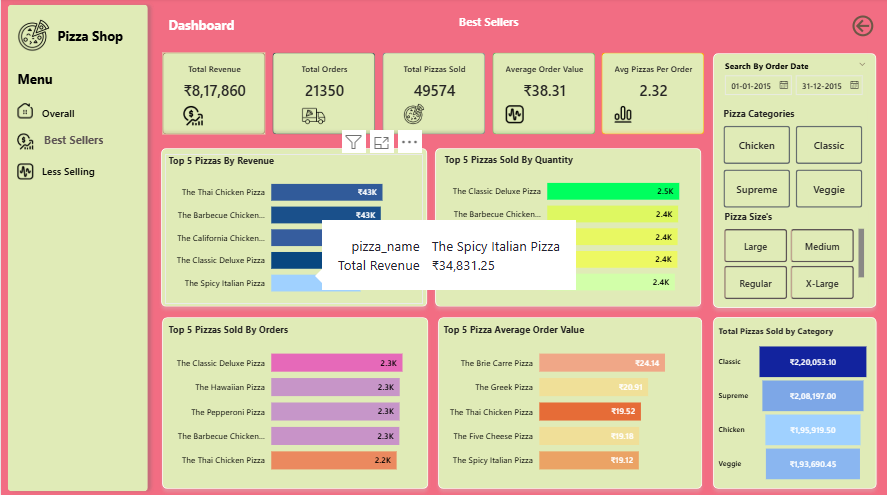

The dashboard page shown, as its layout file describes it:
{"tool":"powerbi","page":{"name":"Best Sellers","canvas":[1280,720],"ordinal":1},"visuals":[{"type":"shape","box":[0,0,221,720],"z":0},{"type":"textbox","box":[76,37,122,37],"z":1000},{"type":"image","box":[19,23,57,60],"z":2000},{"type":"textbox","box":[236.2,21.2,150,37.5],"z":3000},{"type":"cardVisual","fields":{"Data":["pizza_sales.Total Revenue"]},"box":[227.4,73.6,158.2,128.4],"z":4000,"group":"g1"},{"type":"shape","box":[223,450,401,265],"z":4000},{"type":"cardVisual","fields":{"Data":["pizza_sales.Total Orders"]},"box":[385.6,73.6,158.2,128.4],"z":5000,"group":"g1"},{"type":"shape","box":[620,450,398,265],"z":5000},{"type":"group","id":"g1","title":"Group 1","box":[227.4,73.6,791.1,128.4],"z":6000},{"type":"cardVisual","fields":{"Data":["pizza_sales.Avg Order Value"]},"box":[702,73.6,158.2,128.4],"z":6000,"group":"g1"},{"type":"shape","box":[1016.4,70.9,252.7,384.5],"z":7000},{"type":"cardVisual","fields":{"Data":["pizza_sales.Total Pizzas Sold"]},"box":[543.6,73.6,158.2,128],"z":7000,"group":"g1"},{"type":"cardVisual","fields":{"Data":["pizza_sales.Avg Pizza Per Order"]},"box":[860.2,73.6,158.2,128.4],"z":8000,"group":"g1"},{"type":"slicer","fields":{"Values":["pizza_sales.order_date"]},"box":[1029.2,83.3,228.3,100.8],"z":8000},{"type":"textbox","box":[19,100,150,38],"z":9000},{"type":"image","box":[19.2,146,32.4,33.6],"z":10000},{"type":"pageNavigator","box":[59.3,144,146,116],"z":11000},{"type":"shape","box":[1016,450,253,265],"z":12000},{"type":"advancedSlicerVisual","title":"Pizza Categories","fields":{"Values":["pizza_sales.pizza_category"]},"box":[1035.8,156.7,211.7,150],"z":13000},{"type":"advancedSlicerVisual","title":"Pizza Size''s","fields":{"Values":["pizza_sales.pizza_size"]},"box":[1037.5,305.8,211.7,134.2],"z":14000},{"type":"image","box":[14,190.7,40,32.7],"z":15000},{"type":"image","box":[11.3,232.7,47.3,32.7],"z":16000},{"type":"actionButton","box":[1221.2,20,47.5,40],"z":17000},{"type":"shape","box":[222,207,401,246],"z":18000},{"type":"shape","box":[617,207,401,246],"z":19000},{"type":"barChart","title":"Top 5 Pizzas By Revenue","fields":{"Category":["pizza_sales.pizza_name"],"Y":["pizza_sales.Total Revenue"]},"box":[236,224,372,217],"z":20000},{"type":"barChart","title":"Top 5 Pizzas Sold By Quantity ","fields":{"Category":["pizza_sales.pizza_name"],"Y":["pizza_sales.Total Pizzas Sold"]},"box":[633,223,372,217],"z":21000},{"type":"barChart","title":"Top 5 Pizzas Sold By Orders","fields":{"Category":["pizza_sales.pizza_name"],"Y":["pizza_sales.Total Orders"]},"box":[236,468,372,231],"z":22000},{"type":"barChart","title":"Top 5 Pizza Average Order Value","fields":{"Category":["pizza_sales.pizza_name"],"Y":["pizza_sales.Average Order Value"]},"box":[632,468,372,231],"z":23000},{"type":"textbox","box":[605,18,195,38],"z":24000},{"type":"funnel","title":"Total Pizzas Sold by Category","fields":{"Category":["pizza_sales.pizza_category"],"Y":["pizza_sales.Total Revenue"]},"box":[1028,471,228,232],"z":25000}]}

Visuals, with their boxes on the page's 1280x720 design canvas (x1, y1, x2, y2). These are canvas units, not pixel positions in the 887x495 screenshot, which may show the page scaled, cropped or inside an application window:
shape: crop(0, 0, 221, 720)
textbox: crop(76, 37, 198, 74)
image: crop(19, 23, 76, 83)
textbox: crop(236, 21, 386, 59)
cardVisual - pizza_sales.Total Revenue: crop(227, 74, 386, 202)
shape: crop(223, 450, 624, 715)
cardVisual - pizza_sales.Total Orders: crop(386, 74, 544, 202)
shape: crop(620, 450, 1018, 715)
"Group 1" group: crop(227, 74, 1018, 202)
cardVisual - pizza_sales.Avg Order Value: crop(702, 74, 860, 202)
shape: crop(1016, 71, 1269, 455)
cardVisual - pizza_sales.Total Pizzas Sold: crop(544, 74, 702, 202)
cardVisual - pizza_sales.Avg Pizza Per Order: crop(860, 74, 1018, 202)
slicer - pizza_sales.order_date: crop(1029, 83, 1258, 184)
textbox: crop(19, 100, 169, 138)
image: crop(19, 146, 52, 180)
pageNavigator: crop(59, 144, 205, 260)
shape: crop(1016, 450, 1269, 715)
"Pizza Categories" advancedSlicerVisual: crop(1036, 157, 1248, 307)
"Pizza Size''s" advancedSlicerVisual: crop(1038, 306, 1249, 440)
image: crop(14, 191, 54, 223)
image: crop(11, 233, 59, 265)
actionButton: crop(1221, 20, 1269, 60)
shape: crop(222, 207, 623, 453)
shape: crop(617, 207, 1018, 453)
"Top 5 Pizzas By Revenue" barChart: crop(236, 224, 608, 441)
"Top 5 Pizzas Sold By Quantity " barChart: crop(633, 223, 1005, 440)
"Top 5 Pizzas Sold By Orders" barChart: crop(236, 468, 608, 699)
"Top 5 Pizza Average Order Value" barChart: crop(632, 468, 1004, 699)
textbox: crop(605, 18, 800, 56)
"Total Pizzas Sold by Category" funnel: crop(1028, 471, 1256, 703)
